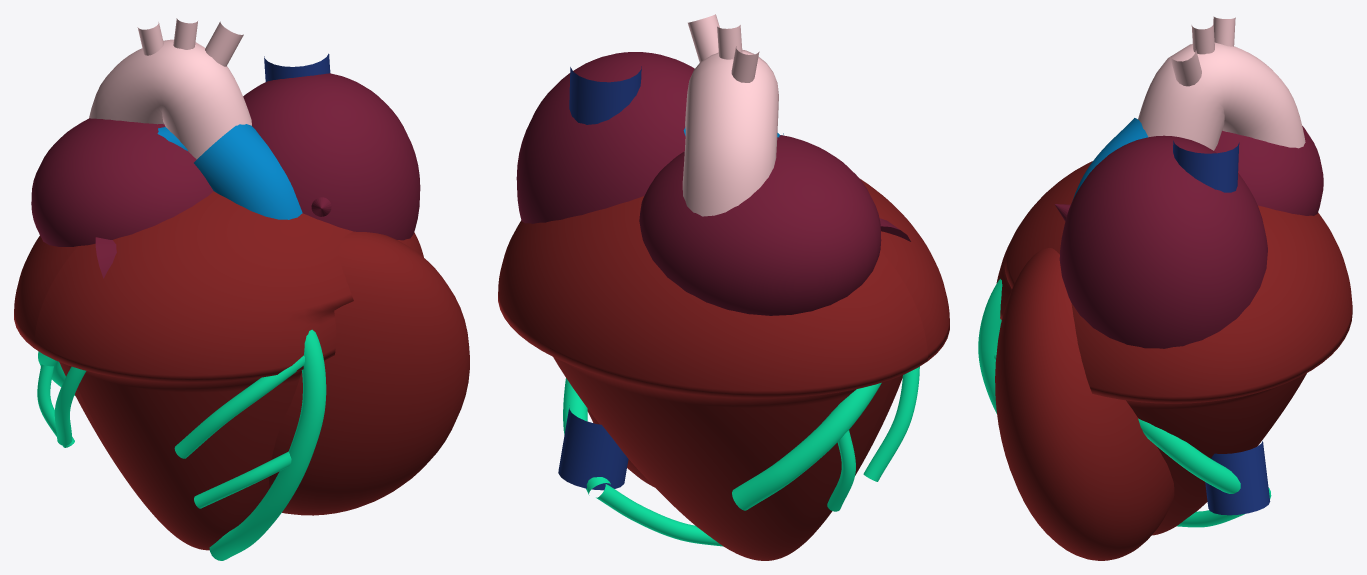
Rendered from cardiovision_3d__public_models__heart.glb.
3 renders of one model, left to right at view 1: azimuth 30°, elevation 25°; view 2: azimuth 150°, elevation 25°; view 3: azimuth 270°, elevation 25°, orthographic. The views are drawn at different scales.
Parts seen in each view (by area): view 1: Myocardium, RightVentricle, RightAtrium, LeftAtrium, Aorta, LAD, PulmonaryTrunk, LCX, BrachiocephalicArtery, SuperiorVenaCava, LeftCommonCarotid, LeftAuricle (+1 smaller); view 2: Myocardium, LeftAtrium, RightAtrium, Aorta, LCX, InferiorVenaCava, RCA, SuperiorVenaCava, BrachiocephalicArtery, LeftCommonCarotid, LeftSubclavian; view 3: Myocardium, RightAtrium, RightVentricle, Aorta, LeftAtrium, RCA, InferiorVenaCava, SuperiorVenaCava, LAD, PulmonaryTrunk, BrachiocephalicArtery, LeftSubclavian (+1 smaller).
Part boxes in pixels (x1,y1,x2,y2): Myocardium: [14, 191, 423, 550]; RightVentricle: [269, 231, 469, 515]; RightAtrium: [243, 73, 420, 240]; LeftAtrium: [31, 118, 213, 246]; Aorta: [89, 39, 251, 159]; LAD: [174, 329, 326, 560]; PulmonaryTrunk: [194, 124, 302, 219]; LCX: [37, 351, 86, 447]; BrachiocephalicArtery: [205, 21, 243, 66]; SuperiorVenaCava: [264, 53, 330, 81]; LeftCommonCarotid: [173, 18, 197, 49]; LeftAuricle: [95, 237, 116, 278]; Myocardium: [498, 178, 949, 560]; LeftAtrium: [639, 135, 881, 315]; RightAtrium: [516, 52, 694, 223]; Aorta: [682, 50, 778, 216]; LCX: [732, 366, 919, 511]; InferiorVenaCava: [558, 408, 628, 490]; RCA: [563, 378, 723, 546]; SuperiorVenaCava: [569, 66, 641, 124]; BrachiocephalicArtery: [688, 14, 719, 62]; LeftCommonCarotid: [717, 25, 742, 59]; LeftSubclavian: [731, 46, 759, 82]; Myocardium: [996, 161, 1352, 535]; RightAtrium: [1059, 135, 1267, 348]; RightVentricle: [995, 248, 1174, 560]; Aorta: [1138, 42, 1305, 150]; LeftAtrium: [1214, 126, 1323, 215]; RCA: [1138, 418, 1271, 527]; InferiorVenaCava: [1205, 441, 1270, 515]; SuperiorVenaCava: [1173, 140, 1239, 192]; LAD: [978, 279, 1002, 413]; PulmonaryTrunk: [1073, 118, 1147, 199]; BrachiocephalicArtery: [1170, 50, 1201, 86]; LeftSubclavian: [1213, 16, 1235, 46].
Size of the model in its own units: 2.37 by 3.08 by 2.04.
